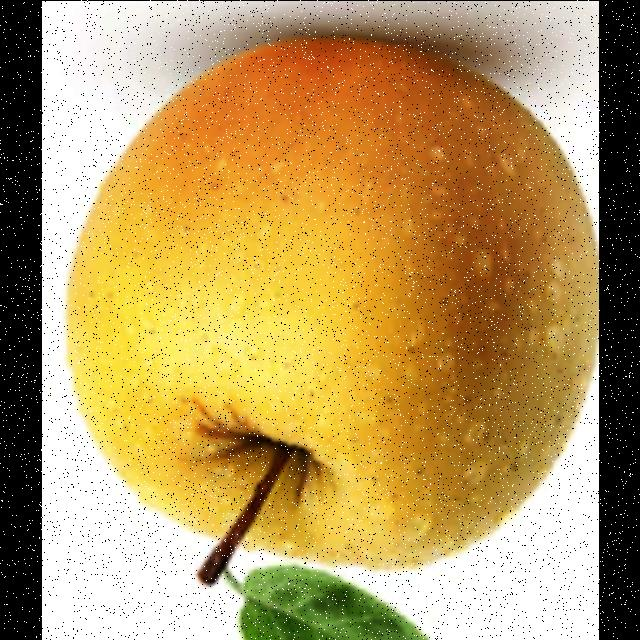Apel Segar: (67, 34, 599, 584)
